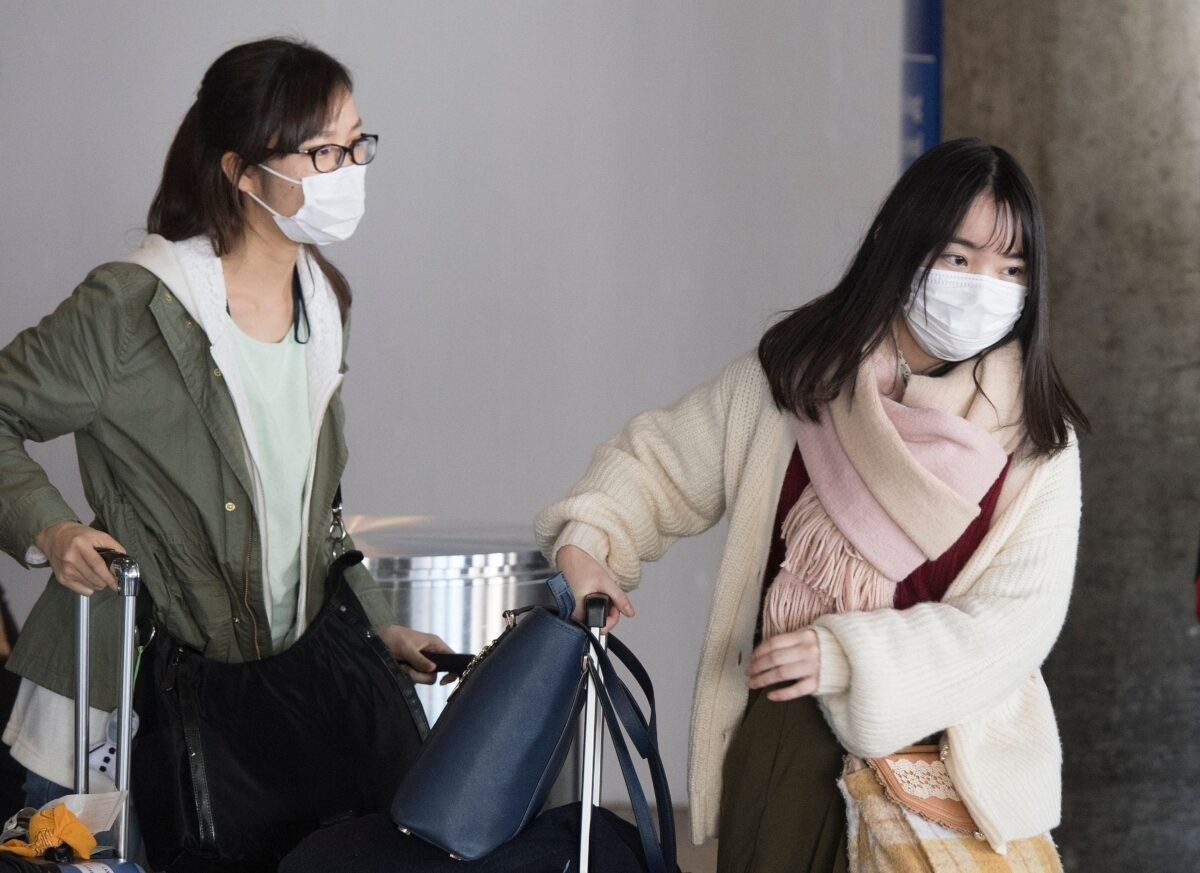face_with_mask: (882, 183, 1047, 386), (210, 75, 384, 266)
